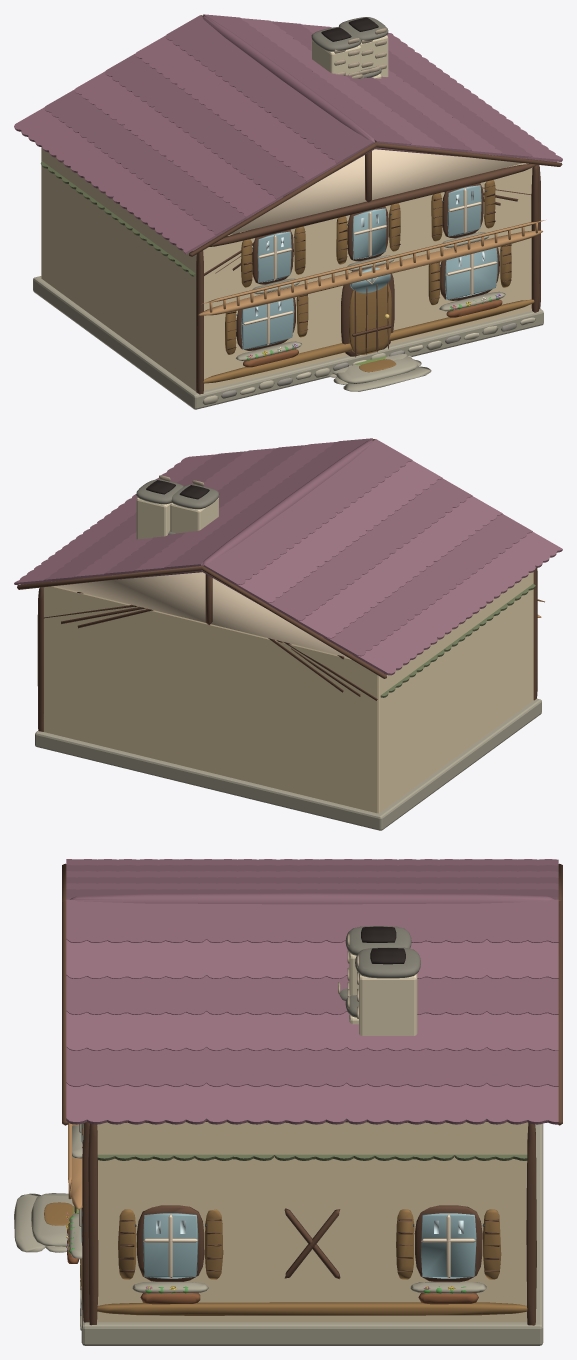
The model's file is granja_edificios.glb.
3 renders of one model, top to bottom at view 1: azimuth 30°, elevation 25°; view 2: azimuth 150°, elevation 25°; view 3: azimuth 270°, elevation 25°, orthographic. The views are drawn at different scales.
Visible parts, largest first — view 1: paredes.005, tablado -1.005, tejas -11.005, escalón bajo.005, esquinero -4.94, franja lado.005, frontón atrás.005, arco puerta.005, balaustre 0, tabla borde atrás-1.005, cumbrera.005, chimenea.009 (+7 smaller); view 2: paredes.005, tablado -1.005, tejas -11.005, escalón bajo.005, frontón atrás.005, tabla borde atrás-1.005, esquinero -4.94, cumbrera.005, chimenea.004, chimenea.009, tejas -11.002, sombrerete.009 (+3 smaller); view 3: tablado -1.005, paredes.005, tejas -11.005, escalón bajo.005, franja lado.005, esquinero -4.94, arco puerta.005, cumbrera.005, chimenea.004, tejas -11.002, tabla borde atrás-1.005, ventana -1 jardinera.005 (+5 smaller).
Boxes of the visible parts, box(x1,y1,x2,y2) form: paredes.005: box(41, 147, 532, 391); tablado -1.005: box(44, 14, 556, 251); tejas -11.005: box(14, 18, 562, 254); escalón bajo.005: box(33, 232, 543, 409); esquinero -4.94: box(196, 151, 540, 394); franja lado.005: box(203, 180, 534, 383); frontón atrás.005: box(229, 149, 522, 344); arco puerta.005: box(241, 185, 497, 349); balaustre 0: box(198, 220, 545, 315); tabla borde atrás-1.005: box(189, 15, 562, 256); cumbrera.005: box(202, 16, 375, 142); chimenea.009: box(311, 40, 360, 75); paredes.005: box(43, 572, 533, 813); tablado -1.005: box(22, 438, 532, 673); tejas -11.005: box(14, 442, 562, 675); escalón bajo.005: box(35, 698, 541, 830); frontón atrás.005: box(55, 572, 347, 657); tabla borde atrás-1.005: box(17, 439, 386, 678); esquinero -4.94: box(37, 567, 537, 731); cumbrera.005: box(202, 440, 373, 565); chimenea.004: box(136, 498, 170, 539); chimenea.009: box(170, 497, 218, 533); tejas -11.002: box(380, 584, 535, 697); sombrerete.009: box(171, 484, 219, 509); tablado -1.005: box(66, 865, 558, 1086); paredes.005: box(97, 1122, 528, 1322); tejas -11.005: box(66, 859, 558, 1124); escalón bajo.005: box(14, 1123, 543, 1345); franja lado.005: box(80, 1123, 527, 1315); esquinero -4.94: box(74, 1121, 536, 1325); arco puerta.005: box(81, 1123, 476, 1278); cumbrera.005: box(70, 893, 554, 904); chimenea.004: box(359, 973, 417, 1035); tejas -11.002: box(97, 1154, 527, 1160); tabla borde atrás-1.005: box(62, 863, 562, 1125); ventana -1 jardinera.005: box(67, 1223, 478, 1304).
Size of the model in its own units: 11.19 by 6.8 by 9.87.
